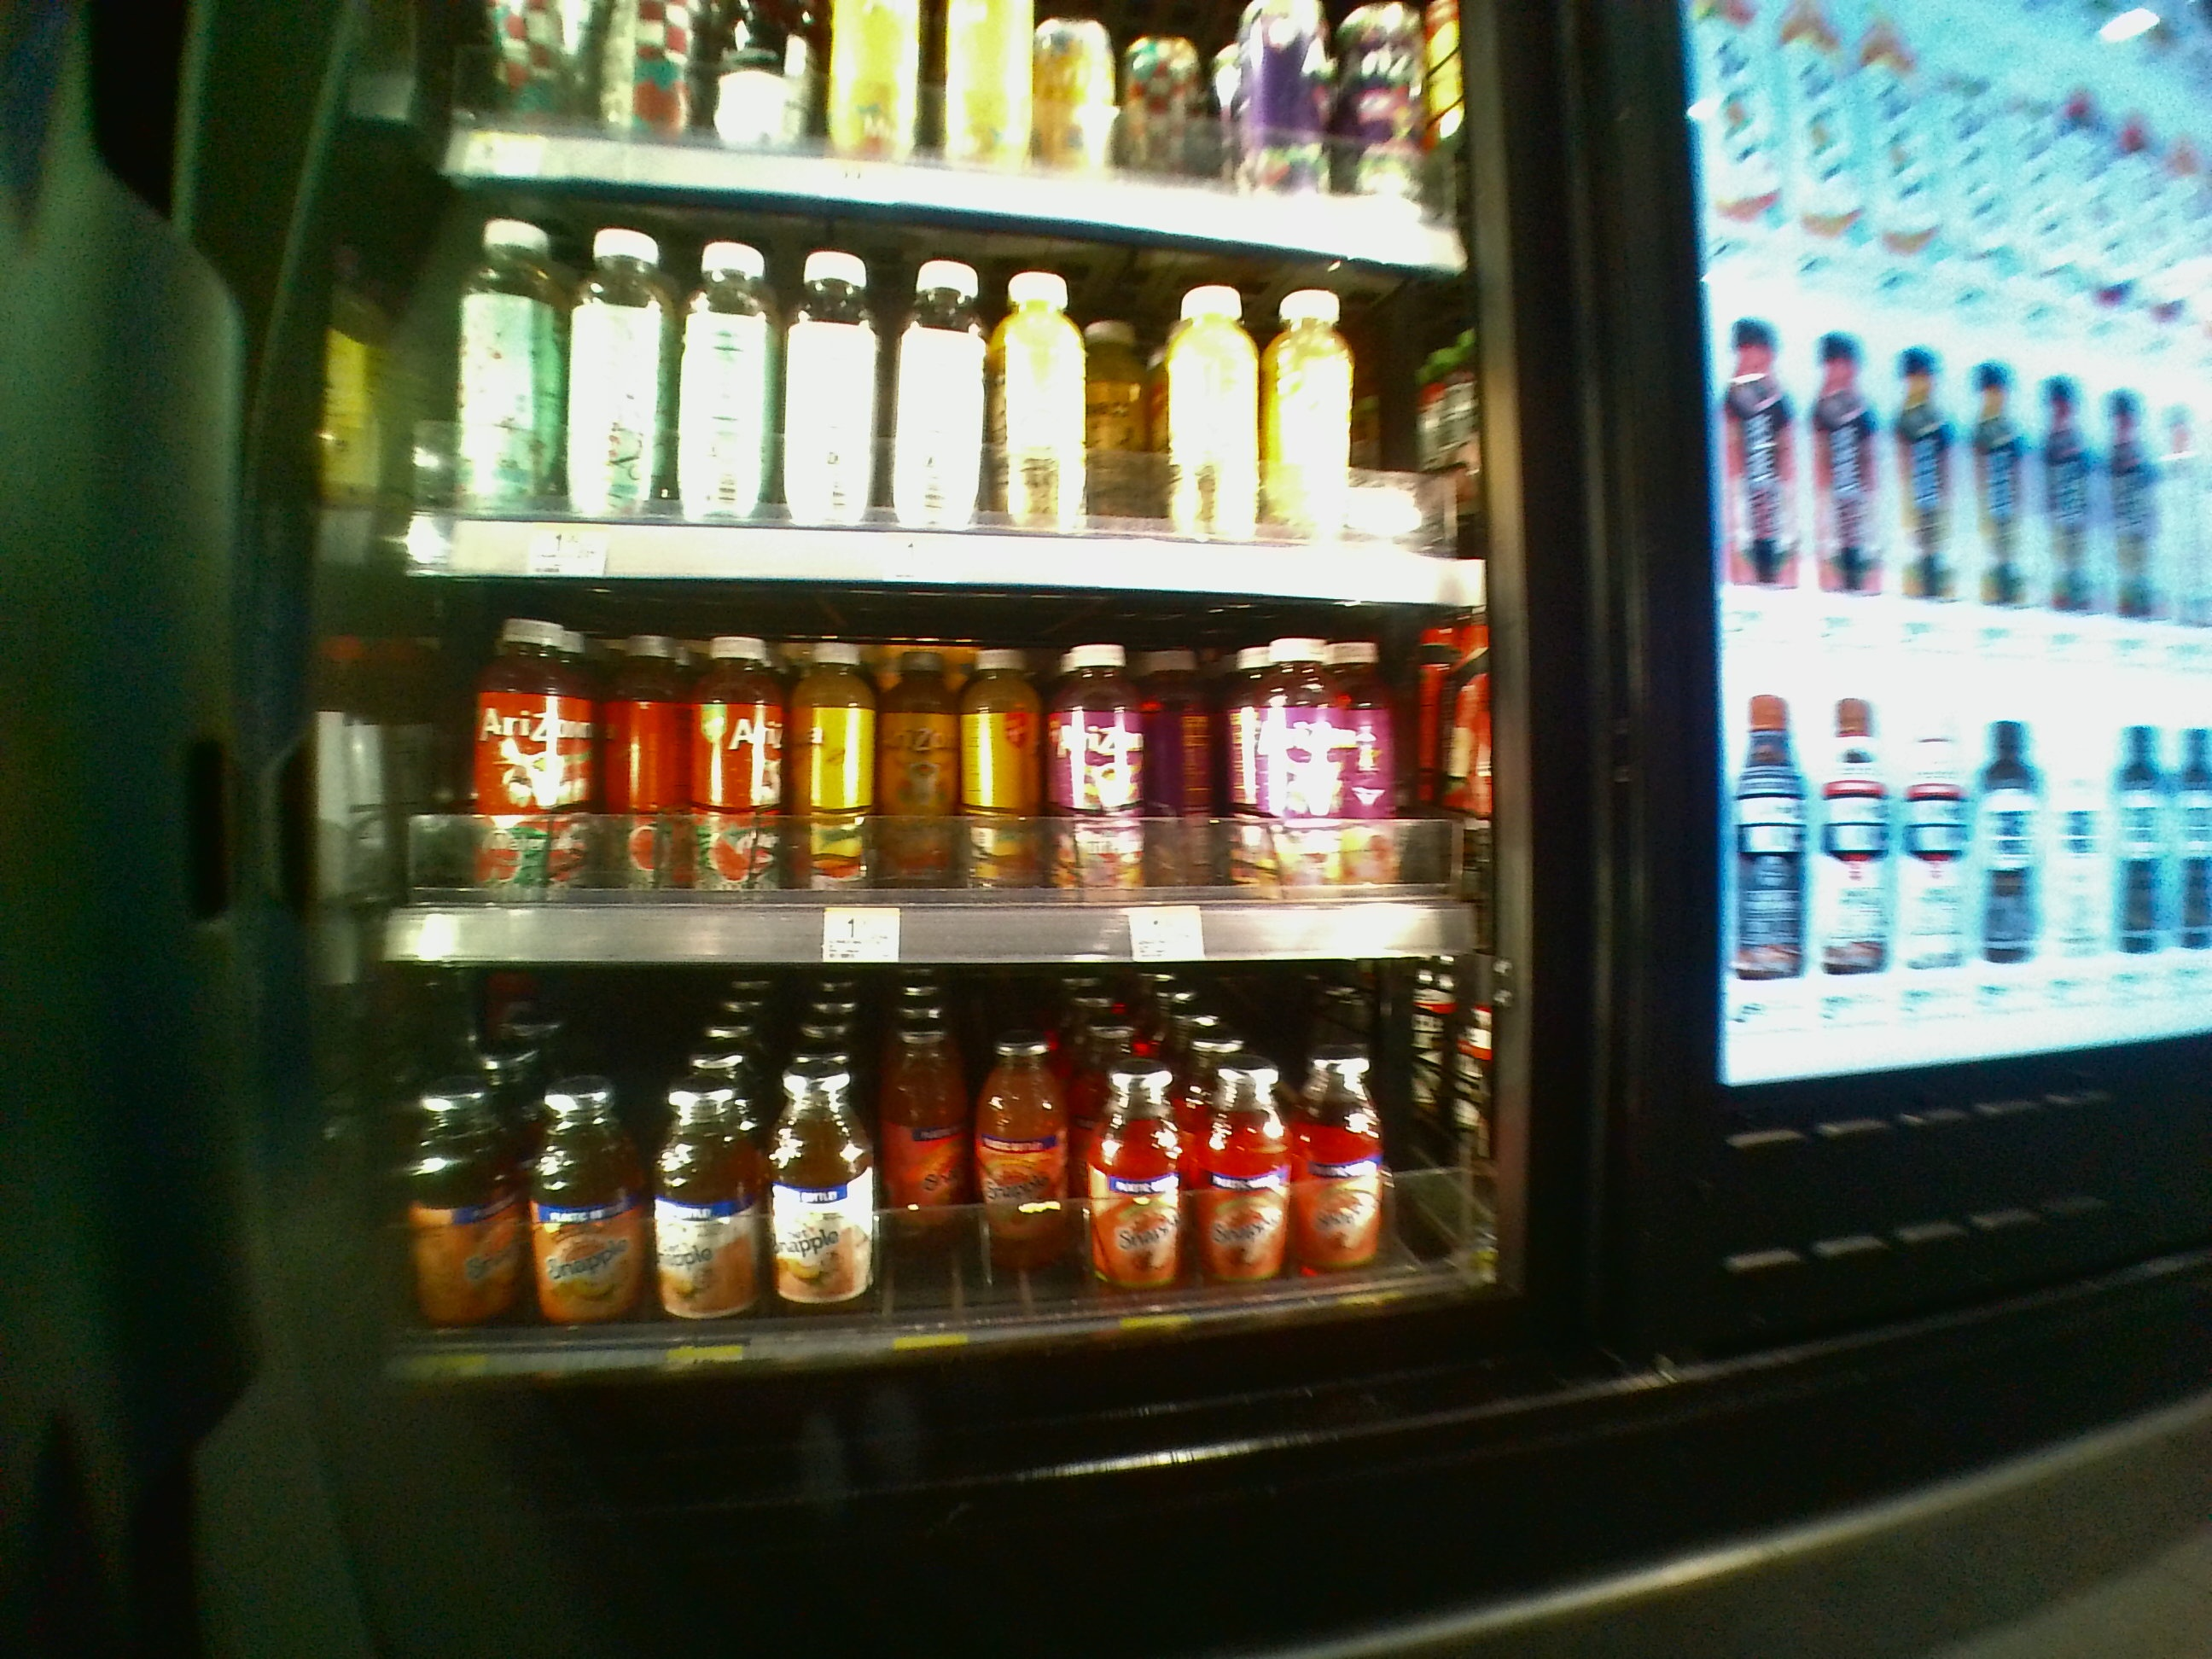shelf: (383, 974, 1491, 1382), (383, 580, 1484, 958)
